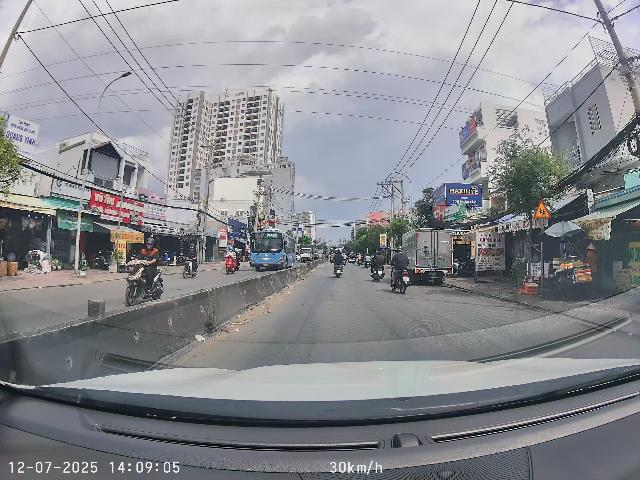225-chu-y-tre-em: (534, 200, 551, 218)
